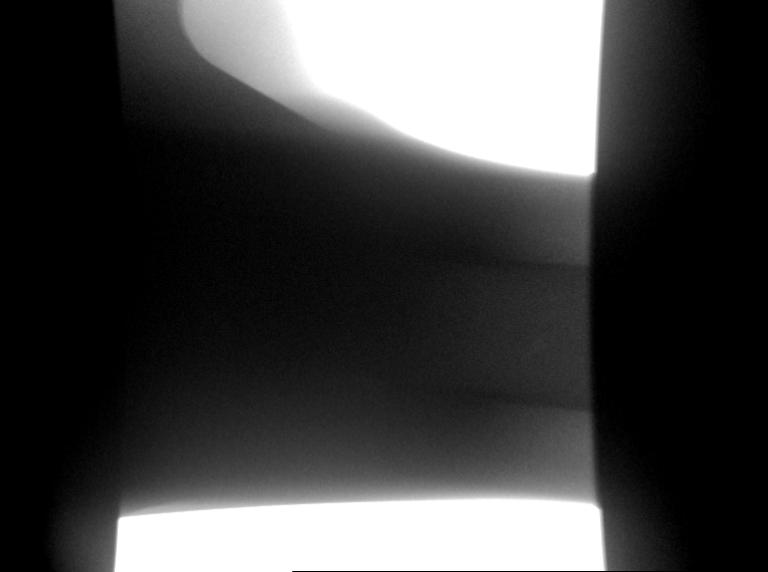defect: (525, 334, 551, 357)
